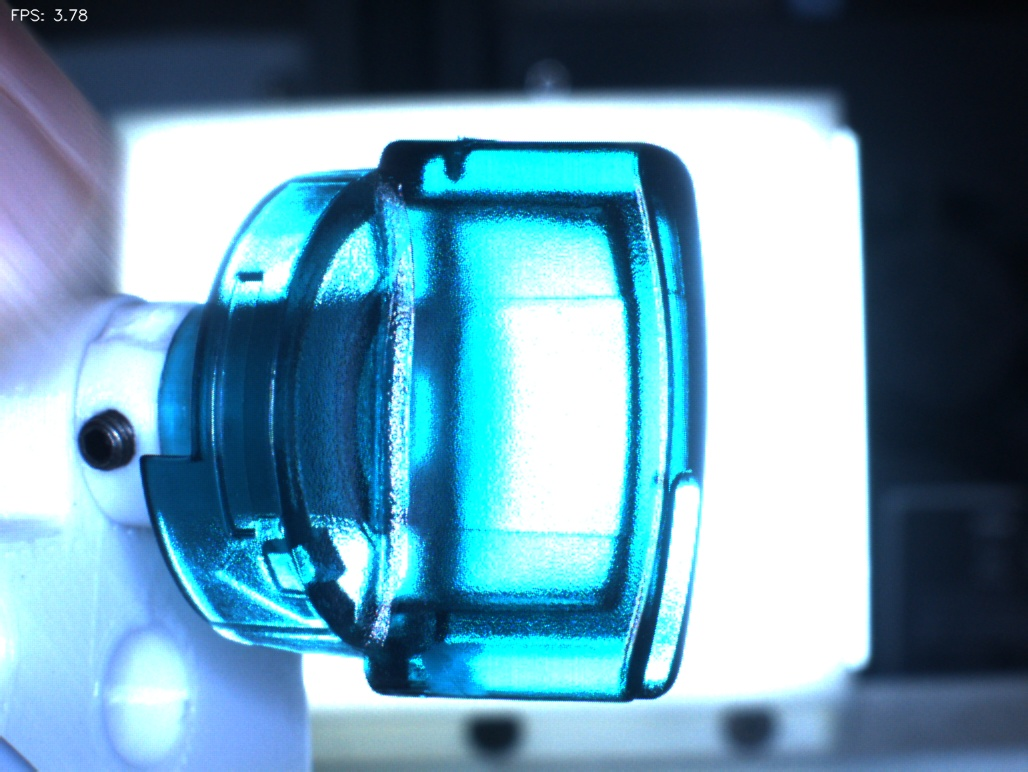Bulle: (411, 108, 501, 206)
